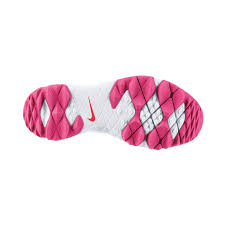nike: (82, 94, 99, 123)
